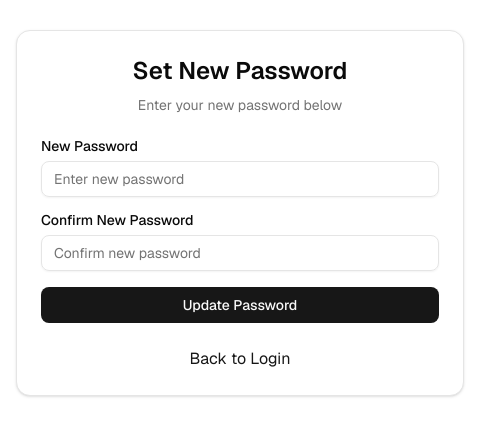
Test case: ResetPasswordPage › shows error for password that doesn't meet requirements
# Too short password
Type "short" into the password field labelled "New Password" at (240, 179), box [41, 161, 439, 197]
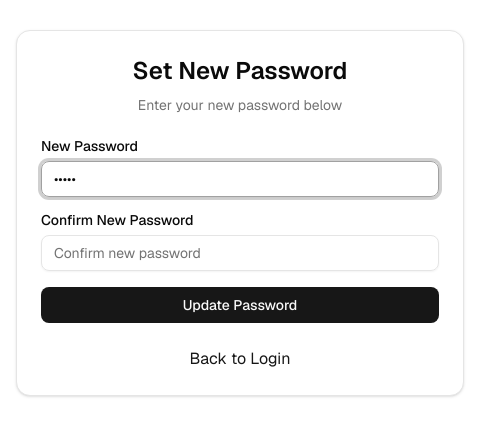
Type "short" into the password field labelled "Confirm New Password" at (240, 253), box [41, 235, 439, 271]
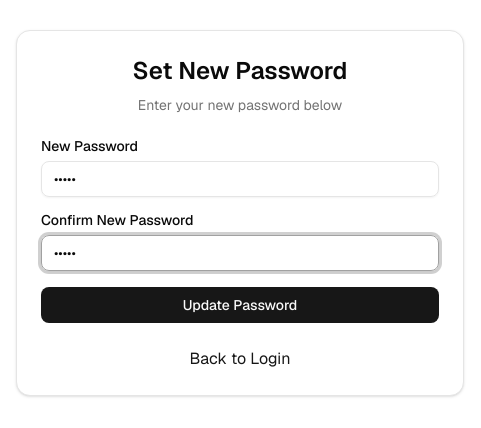
Click the button "Update Password" at (240, 305), box [41, 287, 439, 323]
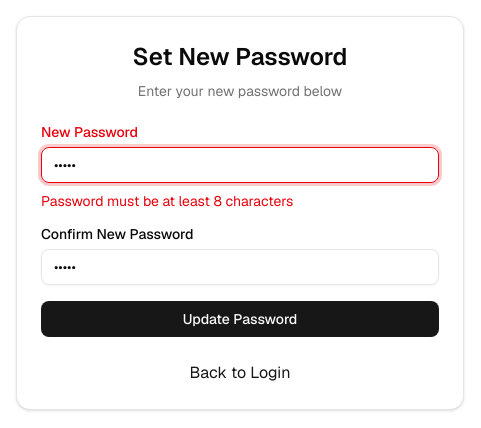
expect the text "Password must be at least 8 characters" is shown: met, box [41, 192, 293, 210]
